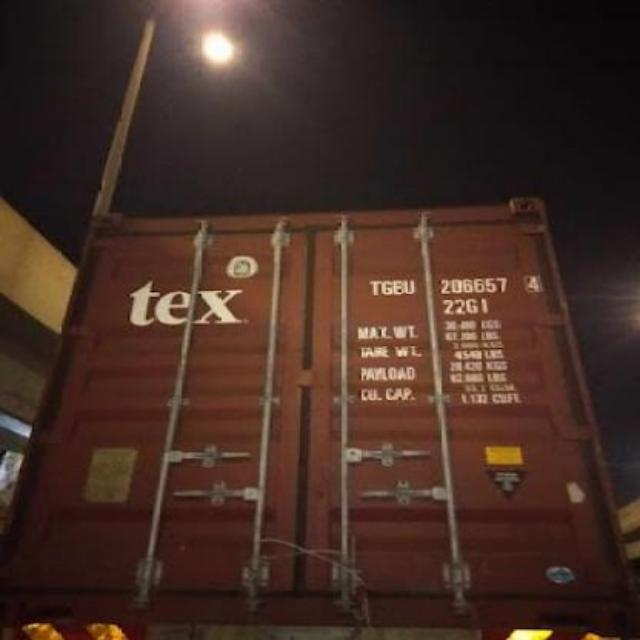0: (452, 278, 462, 292)
2: (436, 278, 452, 292)
4: (526, 276, 542, 290)
5: (484, 278, 496, 292)
6: (462, 278, 474, 292), (474, 278, 486, 292)
7: (496, 278, 508, 292)
B: (392, 279, 404, 295)
G: (382, 279, 394, 295)
T: (368, 279, 382, 297)
U: (404, 278, 416, 294)
